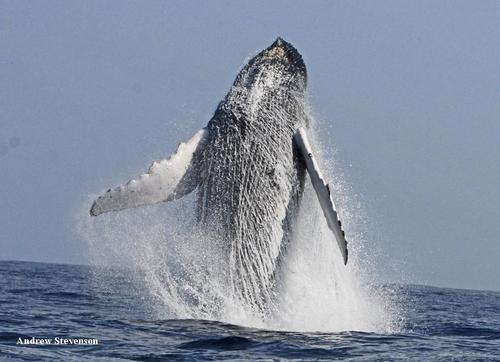humpback: (207, 41, 310, 328)
